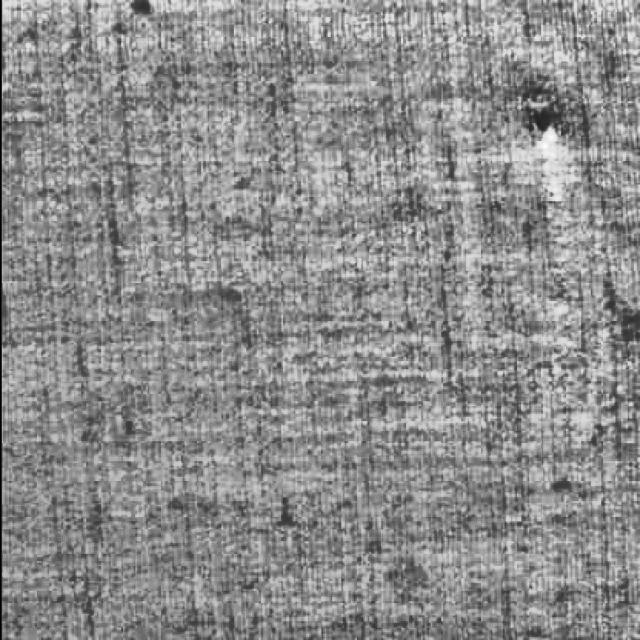thread_error: (514, 78, 604, 383)
